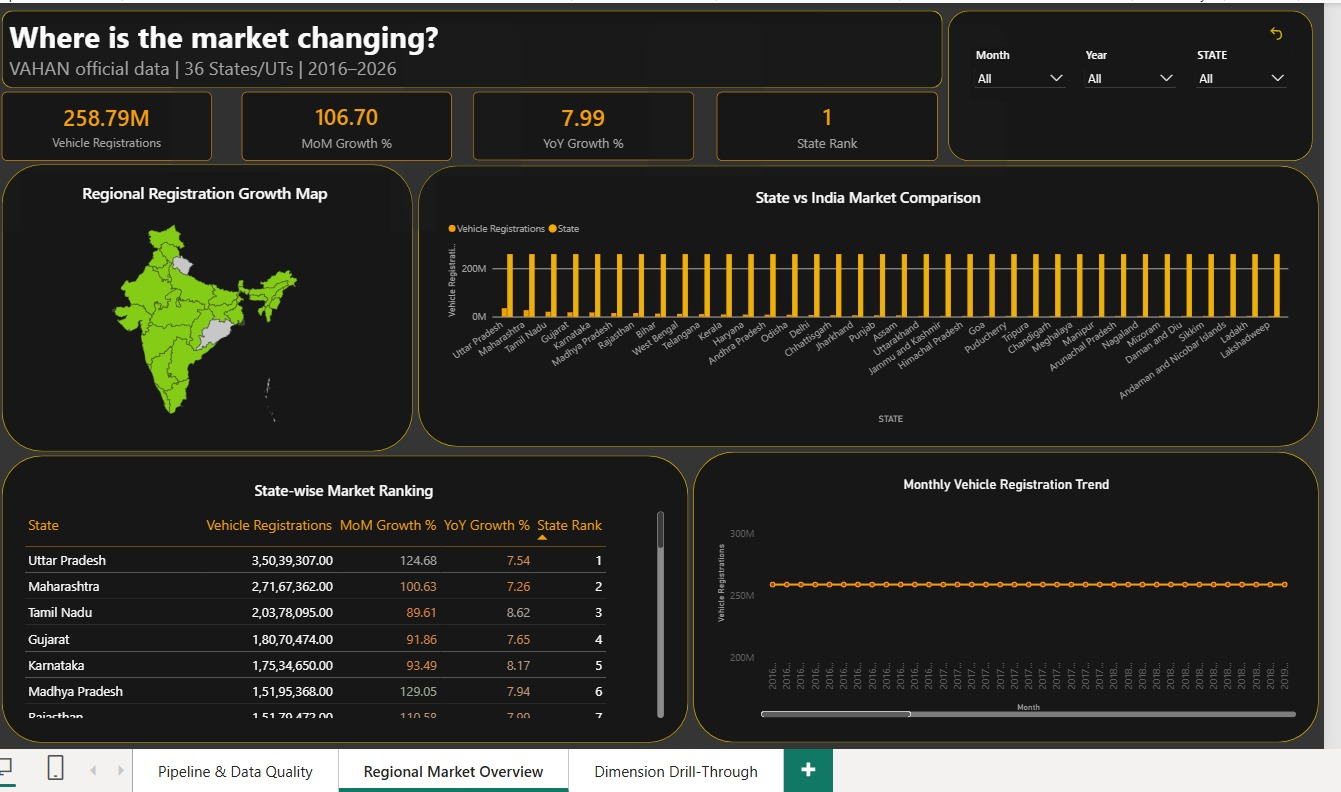

What the dashboard file says about the page in this screenshot:
{"tool":"powerbi","page":{"name":"Regional Market Overview ","canvas":[1920,1080],"ordinal":1},"visuals":[{"type":"shape","box":[1376,10,528,218],"z":0},{"type":"shape","box":[1007,650,906,421],"z":1000},{"type":"shape","box":[5,655,994,416],"z":2000},{"type":"shape","box":[608,235,1304,407],"z":3000},{"type":"shape","box":[6,233,595,416],"z":4000},{"type":"shape","box":[6,10,1362,112],"z":5000},{"type":"card","fields":{"Values":["DAX_Measures.Total Category Registrations"]},"box":[6,128,304,100],"z":6000},{"type":"card","fields":{"Values":["DAX_Measures.YoY Growth %"]},"box":[688,128,320,99],"z":7000},{"type":"card","fields":{"Values":["DAX_Measures.Vehicle MoM Growth %"]},"box":[352,128,304,100],"z":8000},{"type":"card","fields":{"Values":["DAX_Measures.State Rank"]},"box":[1040,128,320,100],"z":9000},{"type":"slicer","title":"STATE","fields":{"Values":["DateTable.Year"]},"box":[1568,64,144,80],"z":10000},{"type":"slicer","title":"STATE","fields":{"Values":["DateTable.Month Name"]},"box":[1408,64,144,80],"z":11000},{"type":"slicer","title":"STATE","fields":{"Values":["DIM_STATE.STATE"]},"box":[1728,64,144,80],"z":12000},{"type":"shapeMap","title":"Regional Registration Growth Map","fields":{"Category":["DIM_STATE.STATE"],"Value":["DAX_Measures.MoM Growth %"]},"box":[32,244,534,394],"z":13000},{"type":"lineChart","title":"Monthly Vehicle Registration Trend","fields":{"Category":["DateTable.Month Year"],"Y":["DAX_Measures.Total Category Registrations"]},"box":[1024,672,871,378],"z":14000},{"type":"tableEx","title":"State-wise Market Ranking","fields":{"Values":["DIM_STATE.STATE","DAX_Measures.Total Category Registrations","DAX_Measures.MoM Growth %","DAX_Measures.YoY Growth %","DAX_Measures.State Rank"]},"box":[21,676,958,374],"z":15000},{"type":"clusteredColumnChart","title":"State vs India Market Comparison","fields":{"Category":["DIM_STATE.STATE"],"Y":["DAX_Measures.Total Category Registrations","DAX_Measures.India Benchmark Registrations"]},"box":[636,252,1249,373],"z":16000},{"type":"textbox","box":[16,0,1168,131],"z":17000},{"type":"actionButton","box":[1800,24,100,40],"z":18000}]}

Visuals, with their boxes on the page's 1920x1080 design canvas (x1, y1, x2, y2). These are canvas units, not pixel positions in the 1341x792 screenshot, which may show the page scaled, cropped or inside an application window:
shape: 1376/10/1904/228
shape: 1007/650/1913/1071
shape: 5/655/999/1071
shape: 608/235/1912/642
shape: 6/233/601/649
shape: 6/10/1368/122
card - DAX_Measures.Total Category Registrations: 6/128/310/228
card - DAX_Measures.YoY Growth %: 688/128/1008/227
card - DAX_Measures.Vehicle MoM Growth %: 352/128/656/228
card - DAX_Measures.State Rank: 1040/128/1360/228
"STATE" slicer: 1568/64/1712/144
"STATE" slicer: 1408/64/1552/144
"STATE" slicer: 1728/64/1872/144
"Regional Registration Growth Map" shapeMap: 32/244/566/638
"Monthly Vehicle Registration Trend" lineChart: 1024/672/1895/1050
"State-wise Market Ranking" tableEx: 21/676/979/1050
"State vs India Market Comparison" clusteredColumnChart: 636/252/1885/625
textbox: 16/0/1184/131
actionButton: 1800/24/1900/64
